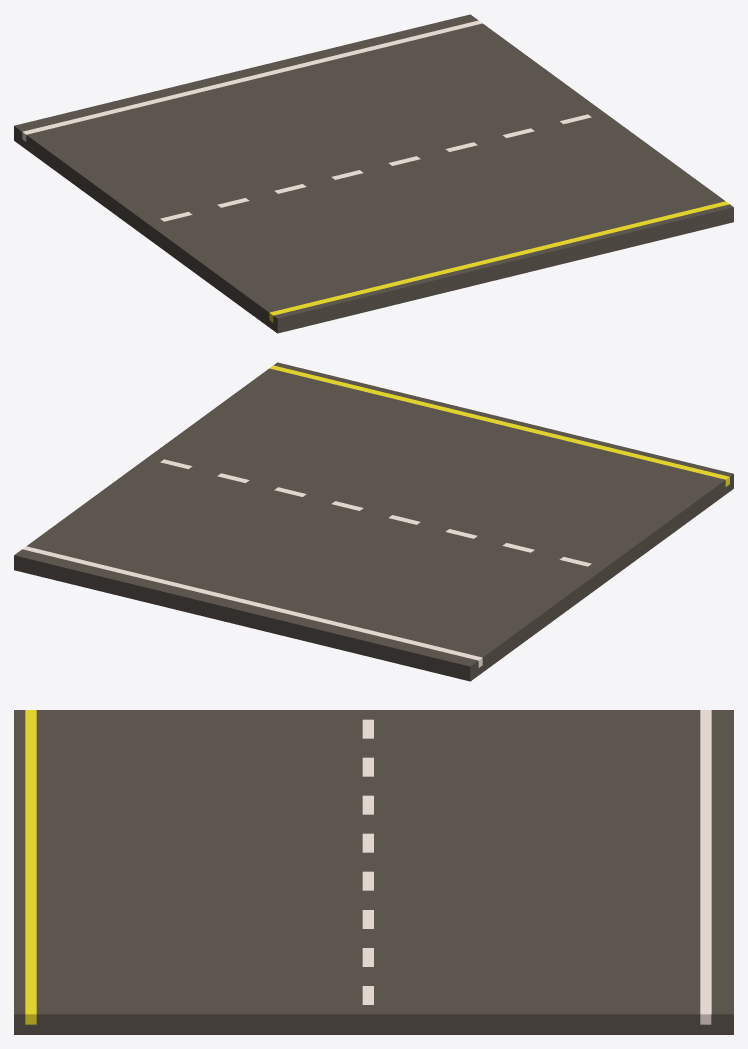
Rendered from road_a_a.obj.
3 views of the same model, one above another, from view 1: azimuth 30°, elevation 25°; view 2: azimuth 150°, elevation 25°; view 3: azimuth 270°, elevation 25° (orthographic). The views are drawn at different scales.
Size of the model in its own units: 6.4 by 0.2 by 6.4.
1 material, 1 textured.
